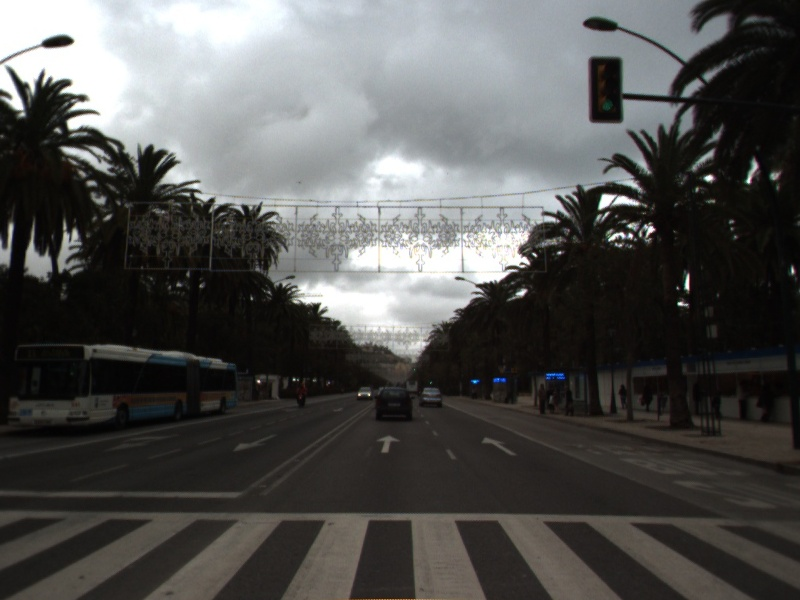STRAIGHT: (479, 435, 520, 458), (374, 433, 403, 455)
